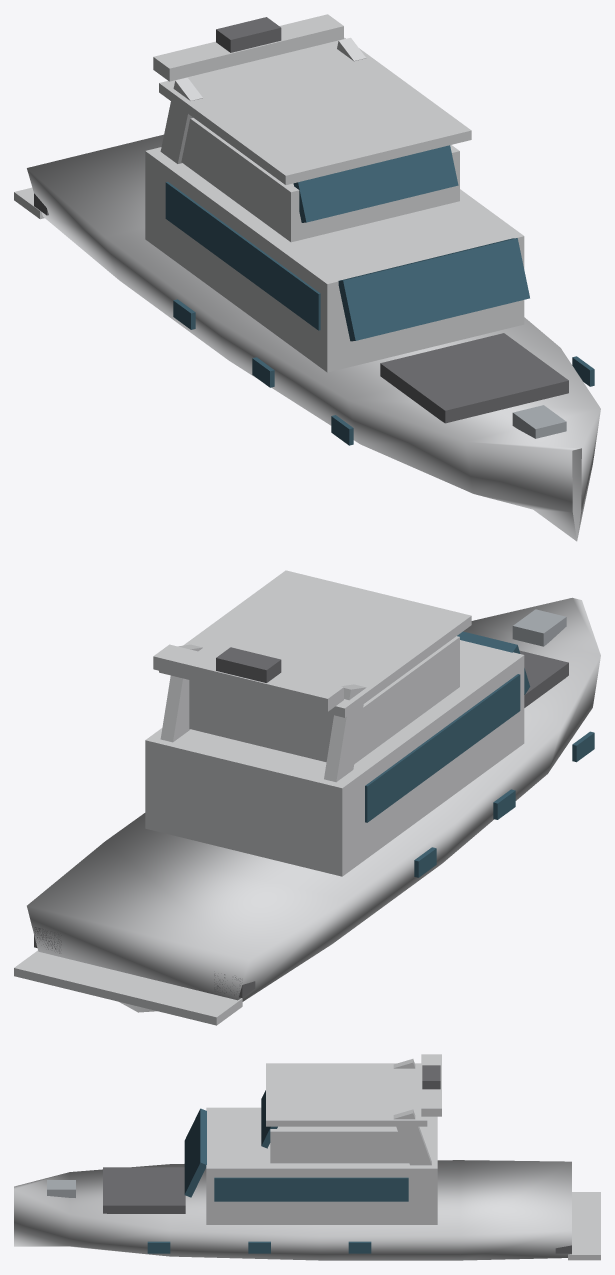
File: yacht_motor.glb
3 views of the same model, one above another, from view 1: azimuth 30°, elevation 25°; view 2: azimuth 150°, elevation 25°; view 3: azimuth 270°, elevation 25° (orthographic). The views are drawn at different scales.
Visible parts, largest first — view 1: Merged_CityWhitePaint, Merged_WindowGlassDark, Merged_RoofDark, ym_windlass; view 2: Merged_CityWhitePaint, Merged_WindowGlassDark, Merged_RoofDark, ym_windlass; view 3: Merged_CityWhitePaint, Merged_WindowGlassDark, Merged_RoofDark, ym_windlass.
Boxes of the visible parts, x1=… form: Merged_CityWhitePaint: x1=14, y1=14, x2=600, y2=541; Merged_WindowGlassDark: x1=165, y1=145, x2=594, y2=445; Merged_RoofDark: x1=34, y1=17, x2=568, y2=423; ym_windlass: x1=512, y1=405, x2=566, y2=438; Merged_CityWhitePaint: x1=14, y1=570, x2=600, y2=1025; Merged_WindowGlassDark: x1=365, y1=631, x2=594, y2=877; Merged_RoofDark: x1=34, y1=647, x2=568, y2=997; ym_windlass: x1=512, y1=609, x2=566, y2=646; Merged_CityWhitePaint: x1=14, y1=1054, x2=600, y2=1260; Merged_WindowGlassDark: x1=147, y1=1090, x2=408, y2=1253; Merged_RoofDark: x1=103, y1=1065, x2=571, y2=1253; ym_windlass: x1=47, y1=1180, x2=75, y2=1197.
Bounding box in the file's own units: 4.36 × 4.63 × 14.2.
